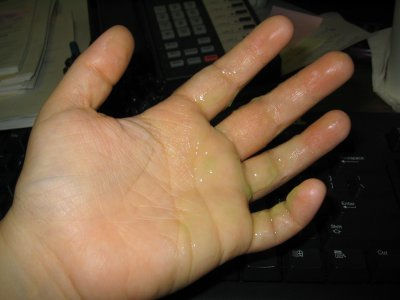palm: (48, 113, 250, 278)
